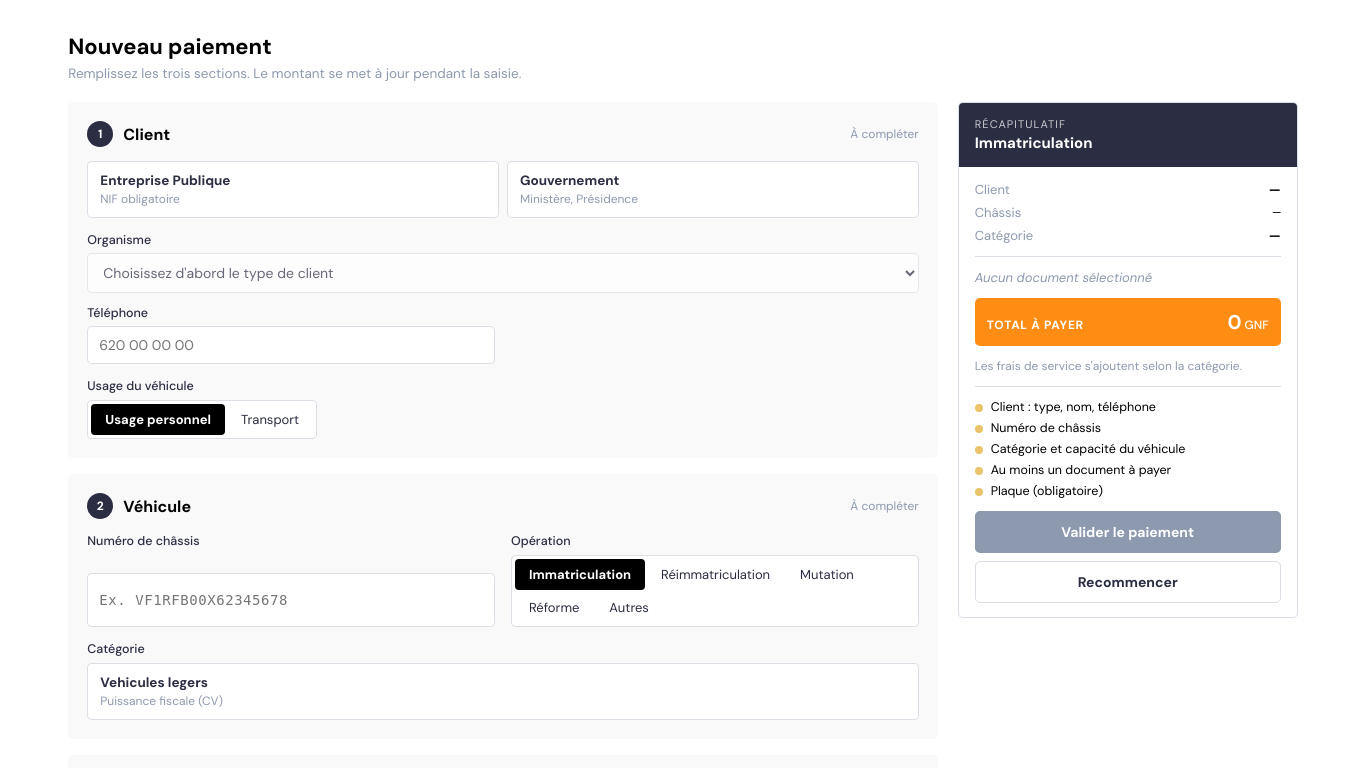
Scenario: Formulaire de nouveau paiement › bloque tout paiement pour un véhicule réformé
Step 1. Type "jtmhv02j104242881" into the field labelled "Numéro de châssis" → x=291, y=600, box [87,572,495,627]
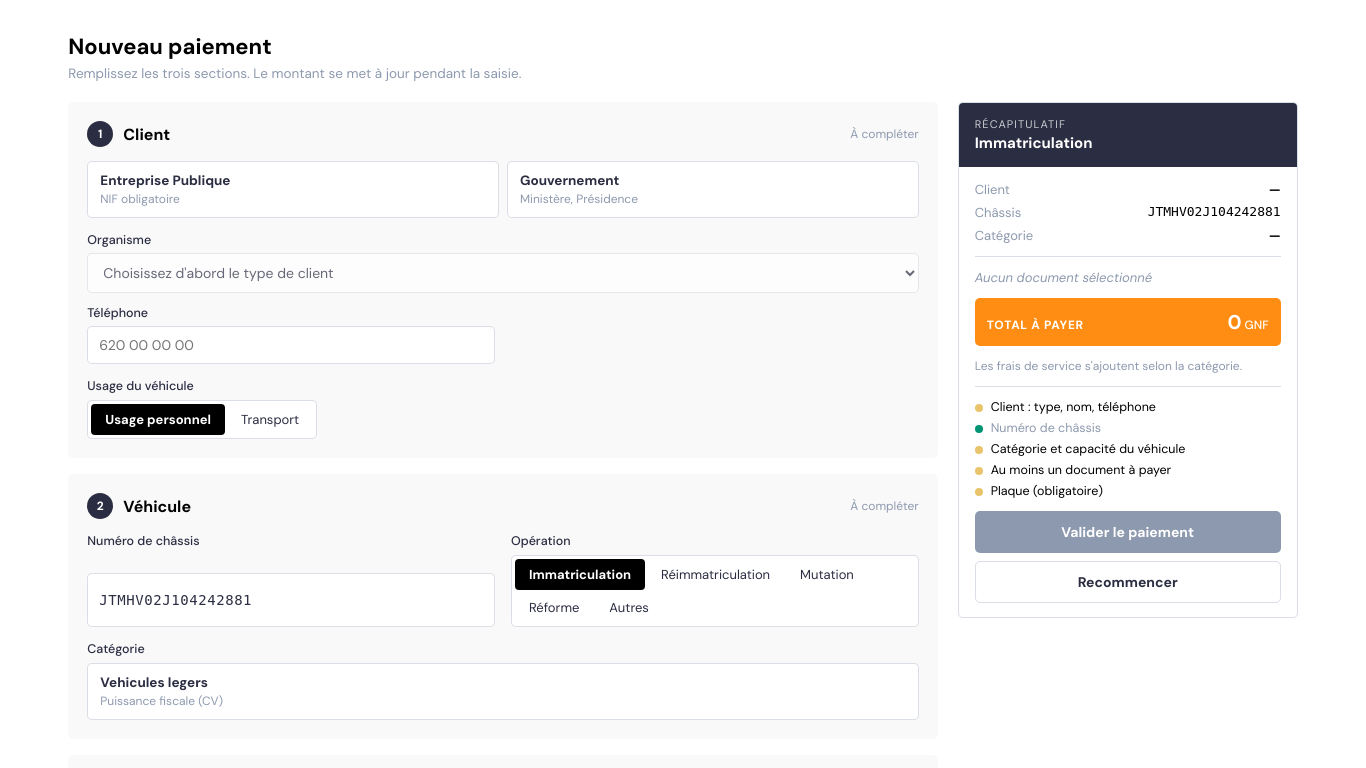
Step 2. Leave the field labelled "Numéro de châssis", box [87,572,495,627]
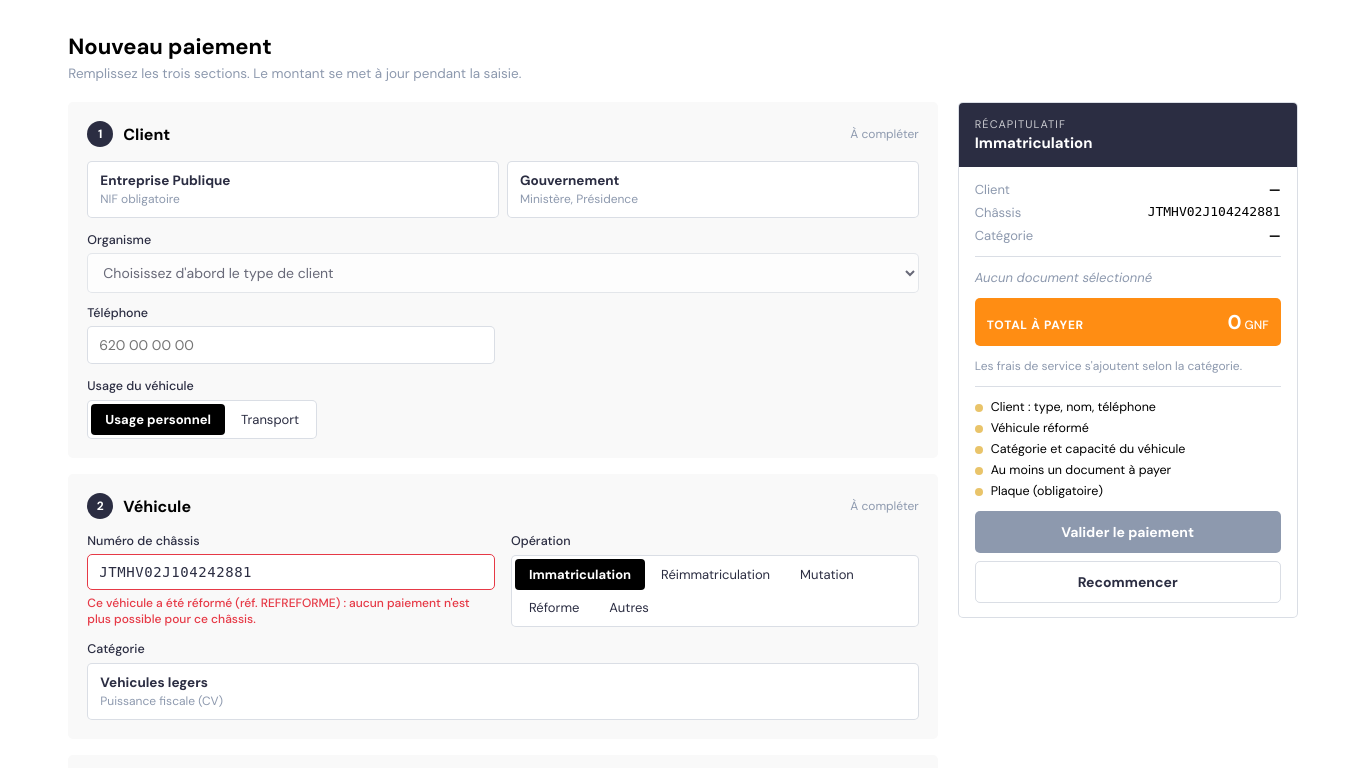
Expected: the button "Valider le paiement" is disabled, [975,511,1281,553]
Now the text "Ce véhicule a été réformé (réf. REFREFORME)" is shown, box [87,595,470,627]
